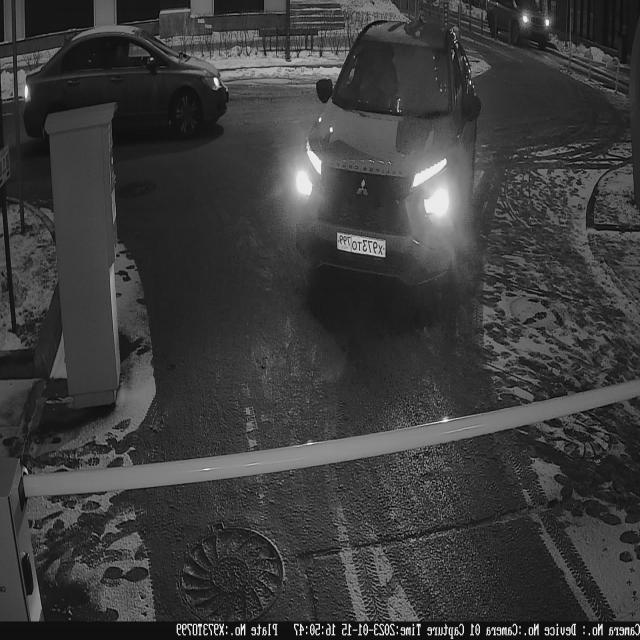car-plate-numbers: (337, 231, 390, 264)
